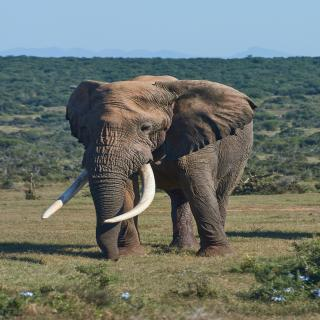Elephant: (33, 71, 266, 266)
